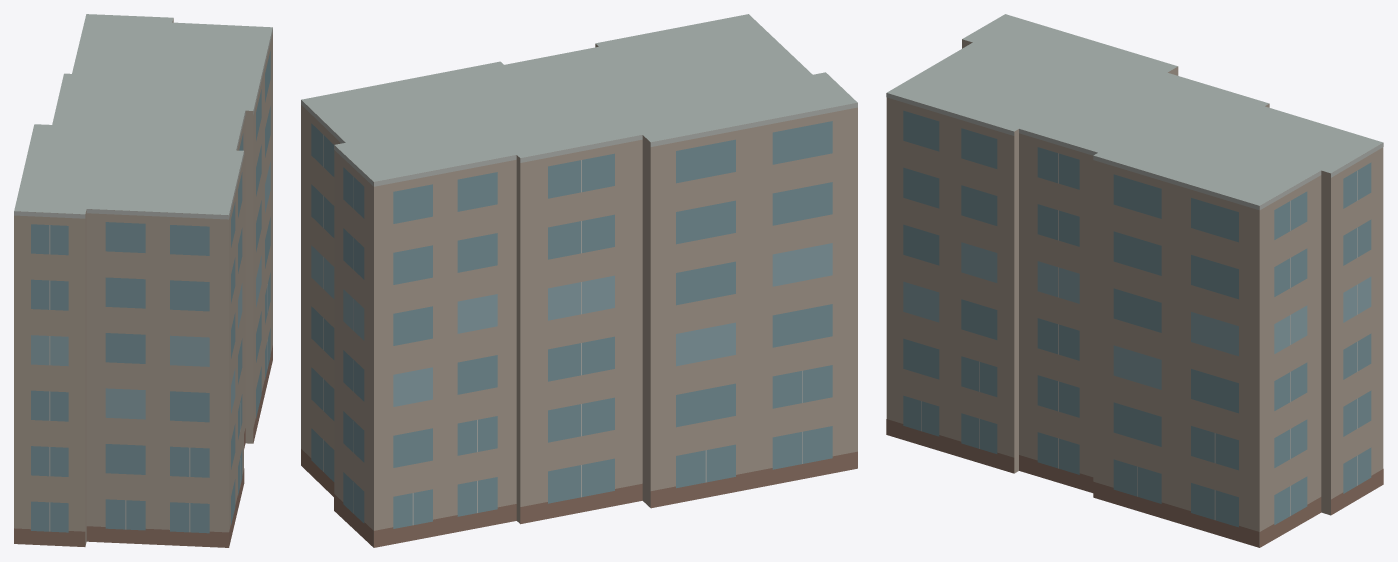
The model's file is survey-upis-32662412.glb.
3 renders of one model, left to right at view 1: azimuth 30°, elevation 25°; view 2: azimuth 150°, elevation 25°; view 3: azimuth 270°, elevation 25°, orthographic. The views are drawn at different scales.
Visible parts, largest first — view 1: survey-upis-32662412.tmp; view 2: survey-upis-32662412.tmp; view 3: survey-upis-32662412.tmp.
Boxes of the visible parts, x1=… form: survey-upis-32662412.tmp: x1=14, y1=14, x2=272, y2=547; survey-upis-32662412.tmp: x1=301, y1=14, x2=857, y2=547; survey-upis-32662412.tmp: x1=886, y1=14, x2=1383, y2=547.
Size of the model in its own units: 22.26 by 18.5 by 24.37.
